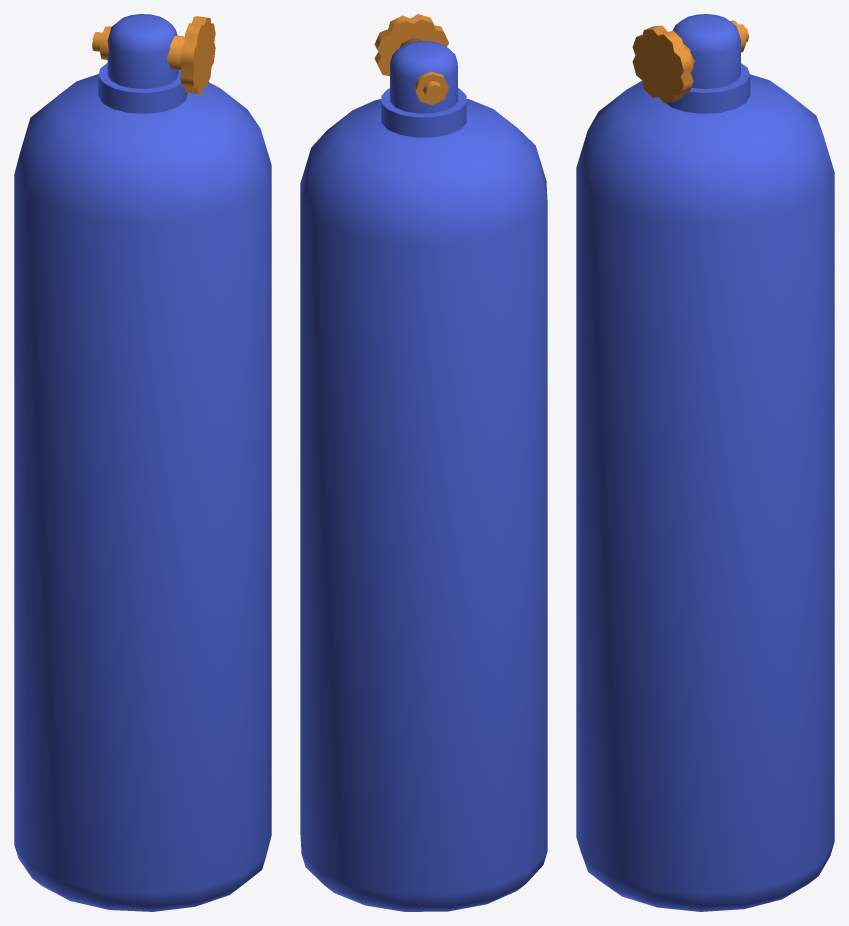
File: HeliumTank.fbx
3 views of the same model, side by side, from view 1: azimuth 30°, elevation 25°; view 2: azimuth 150°, elevation 25°; view 3: azimuth 270°, elevation 25° (orthographic). The views are drawn at different scales.
Parts seen in each view (by area): view 1: HeliumTank; view 2: HeliumTank; view 3: HeliumTank.
Boxes of the visible parts, x1,y1,x2,y2 form: HeliumTank: [14, 14, 271, 911]; HeliumTank: [300, 14, 547, 911]; HeliumTank: [576, 14, 834, 911].
Bounding box in the file's own units: 18.89 × 68.96 × 18.89.
